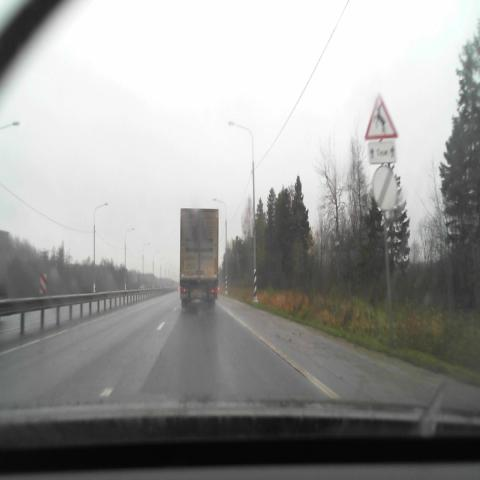1_27: (365, 92, 398, 138)
